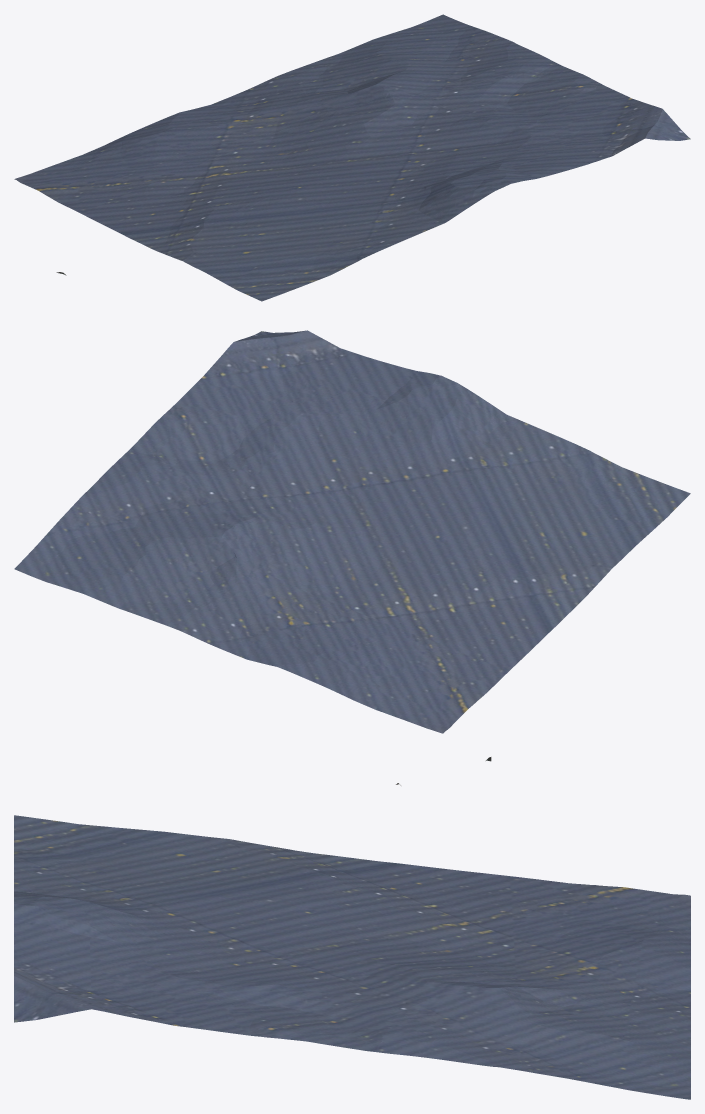
3 renders of one model, top to bottom at view 1: azimuth 30°, elevation 25°; view 2: azimuth 150°, elevation 25°; view 3: azimuth 270°, elevation 25°, orthographic. The views are drawn at different scales.
Bounding box in the file's own units: 4.18 × 1.78 × 4.18.
2 materials, 2 textured.
